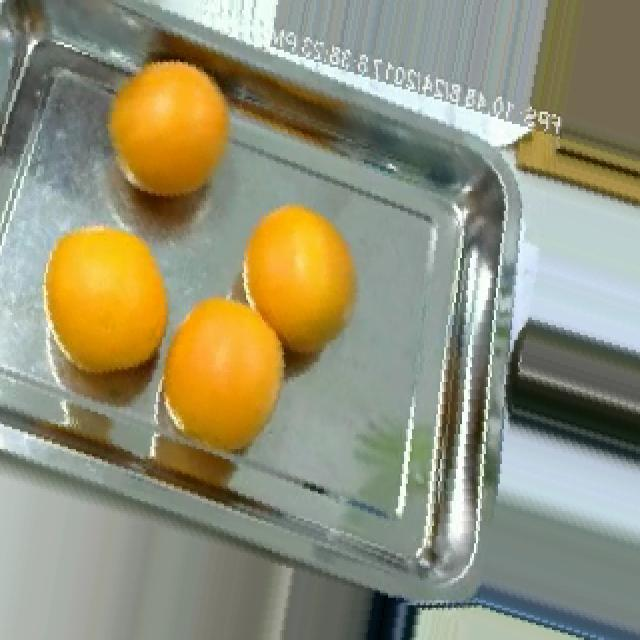Fruit: (86, 37, 254, 253), (24, 201, 180, 412), (222, 186, 376, 394), (158, 273, 304, 491), (516, 0, 640, 184)
